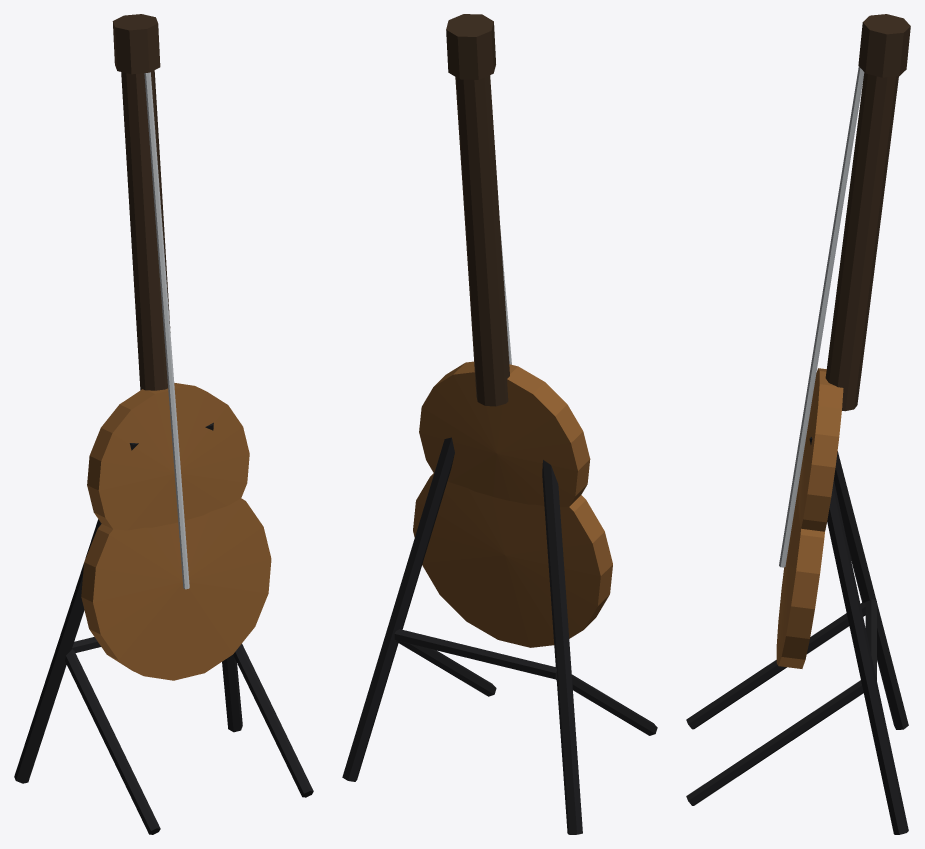
Rendered from guitar-in-stand.glb.
3 renders of one model, left to right at view 1: azimuth 30°, elevation 25°; view 2: azimuth 150°, elevation 25°; view 3: azimuth 270°, elevation 25°, orthographic. The views are drawn at different scales.
Parts seen in each view (by area): view 1: guitar-body, guitar-neck, guitar-stand, guitar-strings; view 2: guitar-body, guitar-stand, guitar-neck; view 3: guitar-neck, guitar-stand, guitar-body, guitar-strings.
Boxes of the visible parts, left/top/right/bottom form: guitar-body: left=81, top=383, right=271, bottom=680; guitar-neck: left=112, top=14, right=170, bottom=390; guitar-stand: left=14, top=422, right=313, bottom=834; guitar-strings: left=144, top=72, right=189, bottom=589; guitar-body: left=413, top=361, right=612, bottom=647; guitar-stand: left=342, top=437, right=657, bottom=834; guitar-neck: left=446, top=14, right=509, bottom=406; guitar-neck: left=825, top=14, right=910, bottom=411; guitar-stand: left=686, top=402, right=908, bottom=834; guitar-body: left=776, top=368, right=843, bottom=668; guitar-strings: left=779, top=66, right=864, bottom=567.
Bounding box in the file's own units: 0.4448 × 1.39 × 0.372.
